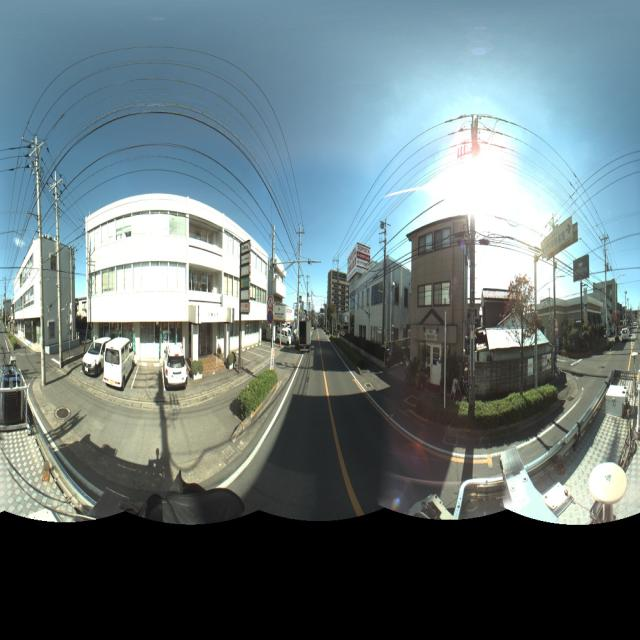b_1: (81, 187, 269, 370), (409, 212, 471, 382), (14, 234, 74, 354), (348, 251, 416, 353), (267, 248, 290, 343), (322, 264, 352, 321), (594, 272, 618, 330)
b_2: (482, 287, 559, 405)
